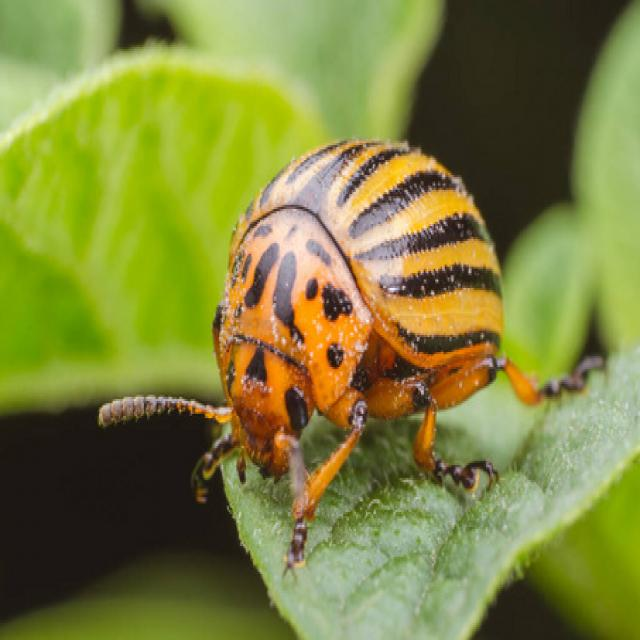ShuCaiHuaBanChong-Grown-: (198, 121, 563, 514)
